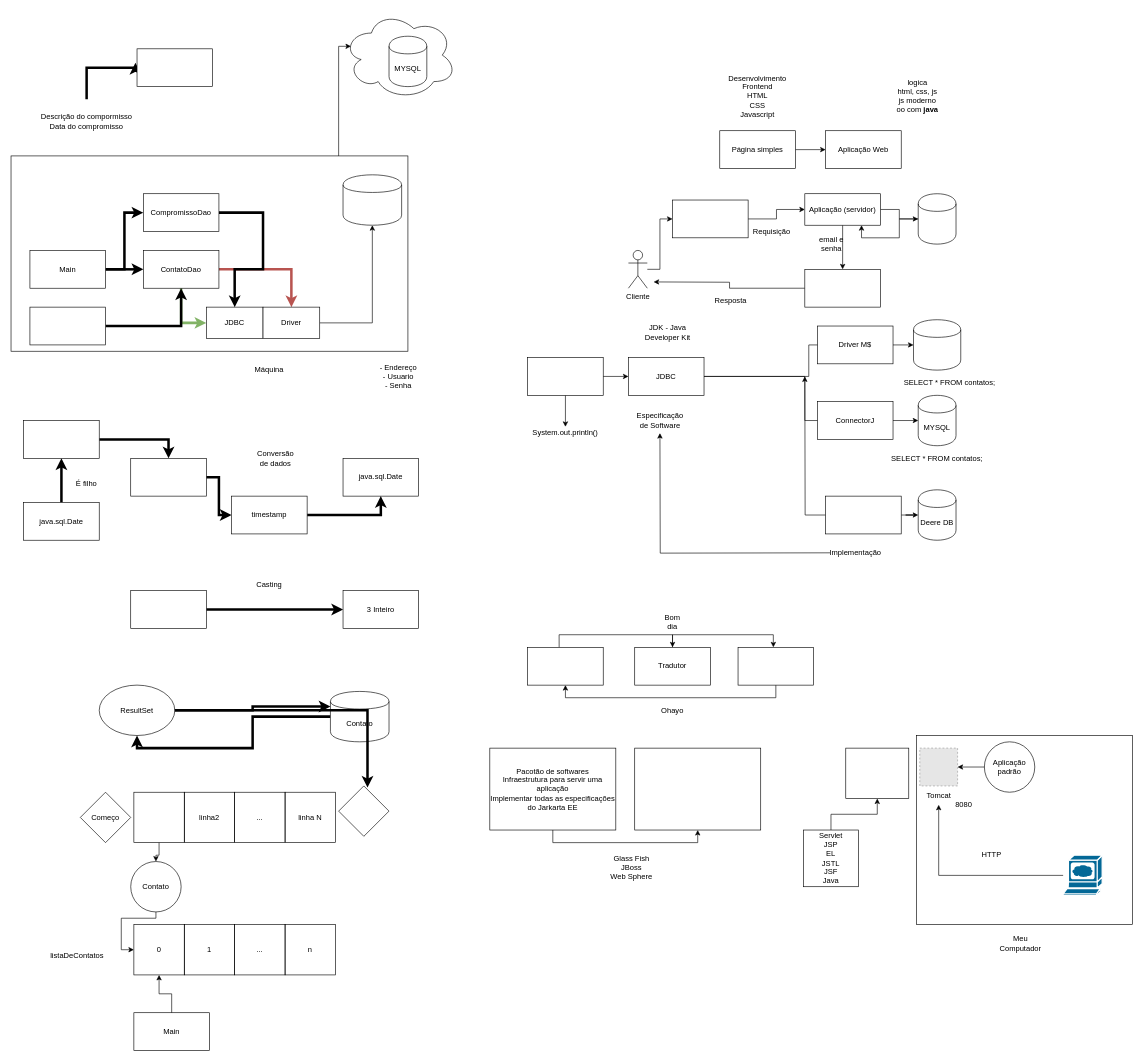
This 1143x1062 diagram has some shape labels left out. Grey dashed boxes stand in for pictures. Here are the shapes that lost their labels. From the top down, the centre of each, then its label:
At (174,67): "Compromisso (Classe)".
At (372,199): "Contato Compromisso".
At (710,218): "Página de login".
At (937,218): "Banco de dados".
At (842,288): "Página html".
At (67,325): "Main2".
At (937,344): "SQLServer".
At (565,376): "JAVA".
At (61,439): "java.util.Date".
At (168,477): "java.util.Calendar".
At (863,514): "DeereJ".
At (168,609): "3.14 Float".
At (565,666): "Português".
At (775,666): "Japones".
At (697,788): "Servidor de aplicação".
At (877,773): "Servidor de aplicação com perfil Web".
At (158,817): "linha1".
At (363,810): "Fim".
